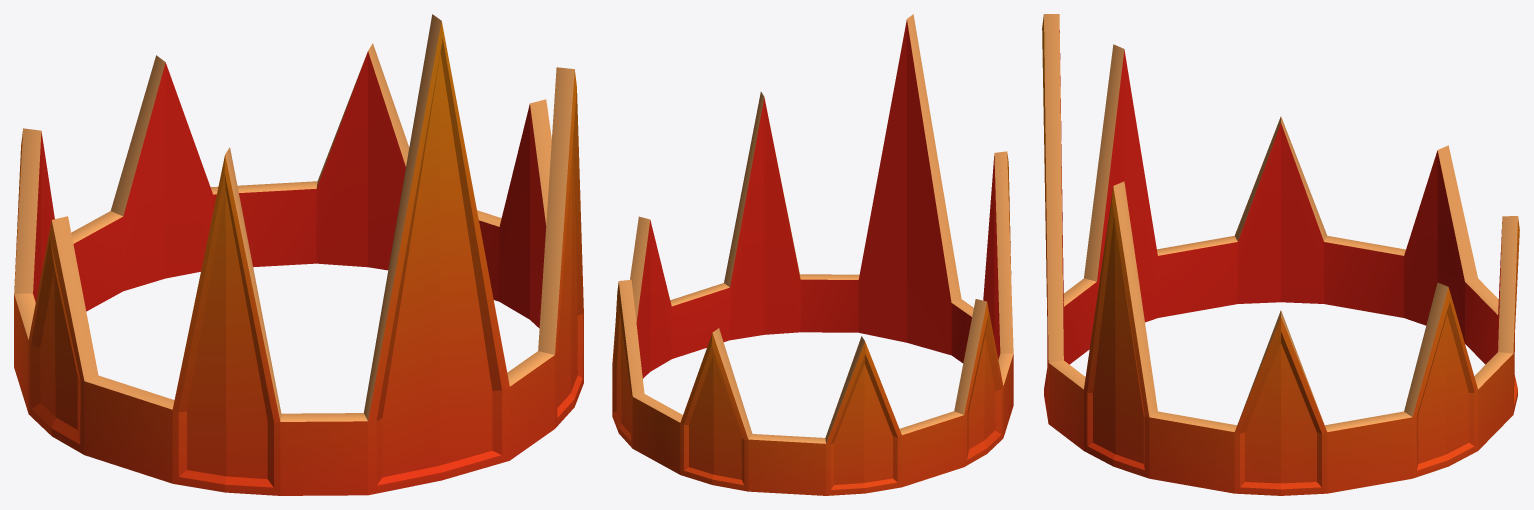
Rendered from wpms cap6c.fbx.
3 views of the same model, side by side, from view 1: azimuth 30°, elevation 25°; view 2: azimuth 150°, elevation 25°; view 3: azimuth 270°, elevation 25° (orthographic). The views are drawn at different scales.
Parts seen in each view (by area): view 1: wpms_cap6c; view 2: wpms_cap6c; view 3: wpms_cap6c.
Boxes of the visible parts, bbox=[...] form: wpms_cap6c: bbox=[14, 14, 583, 495]; wpms_cap6c: bbox=[612, 14, 1013, 495]; wpms_cap6c: bbox=[1042, 14, 1519, 495].
Size of the model in its own units: 71.17 by 62.76 by 71.16.
Materials: 1 (1 with a texture image).
